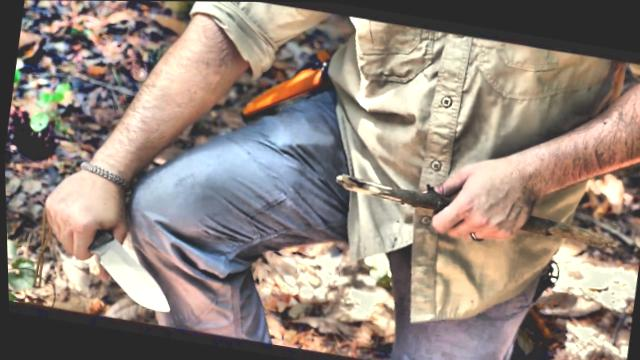knife: (34, 198, 185, 318)
